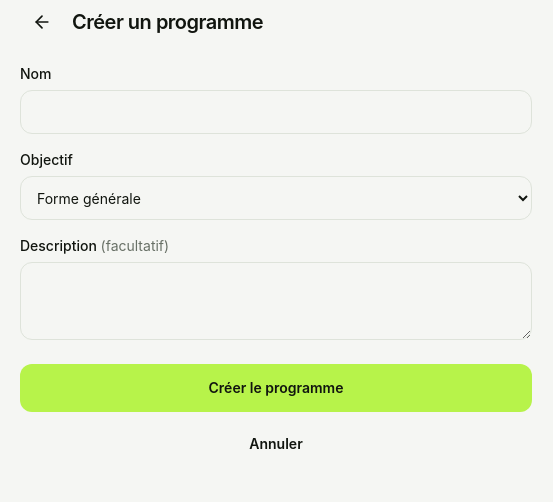
Test: CreateProgramPage › keeps values and shows error on failure
This screenshot has width=553, height=502.
Type "Échec" into the field labelled "Nom" at (276, 112), box [20, 90, 532, 134]
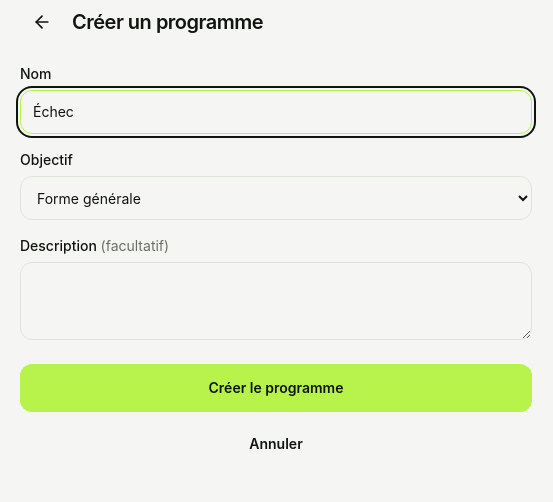
Click the button "Créer le programme" at (276, 388), box [20, 364, 532, 412]
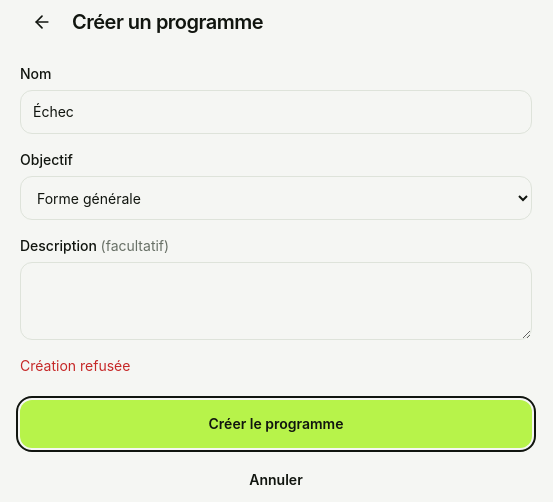
Now the text "Création refusée" is shown, box [20, 357, 130, 374]
